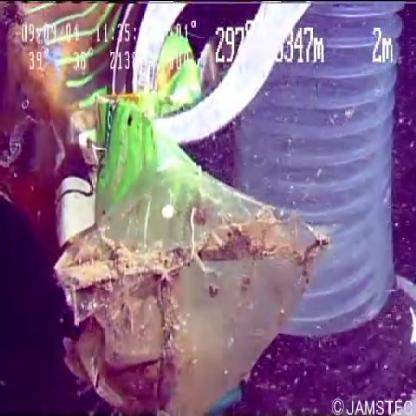Rác: (1, 1, 340, 413)
